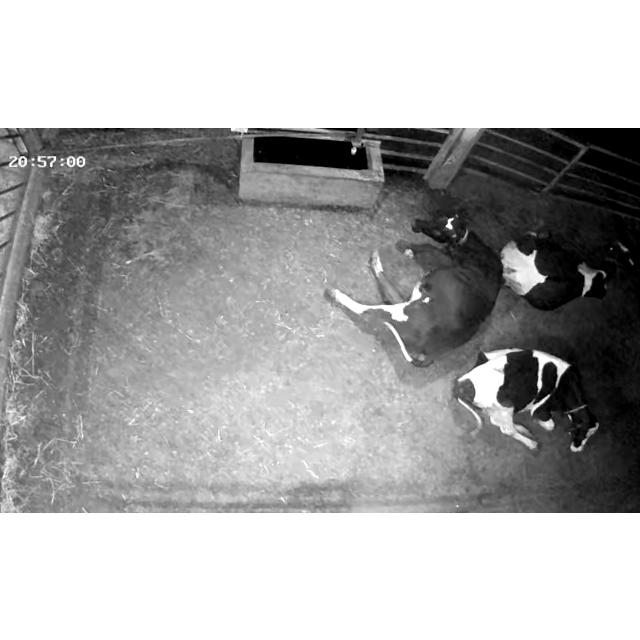lay: (325, 211, 504, 367), (453, 347, 599, 452), (500, 230, 625, 310)
